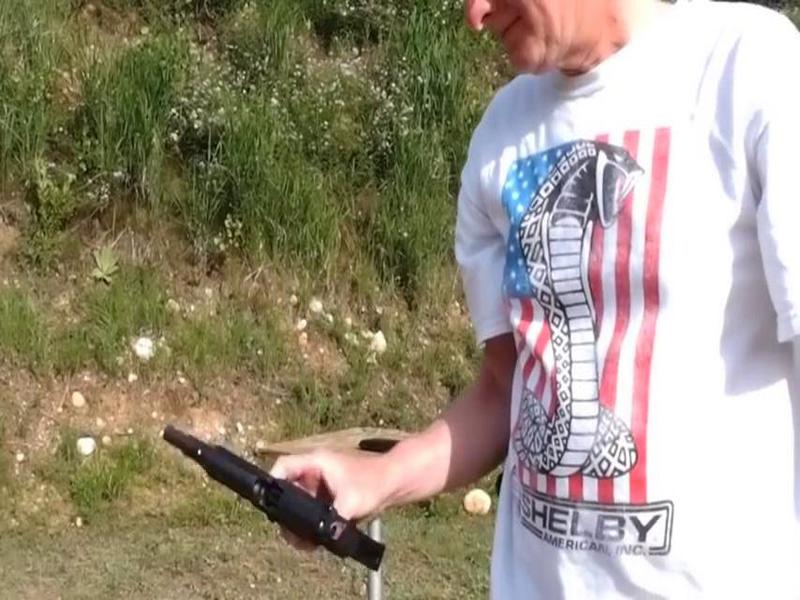Pistola: (147, 418, 398, 573)
